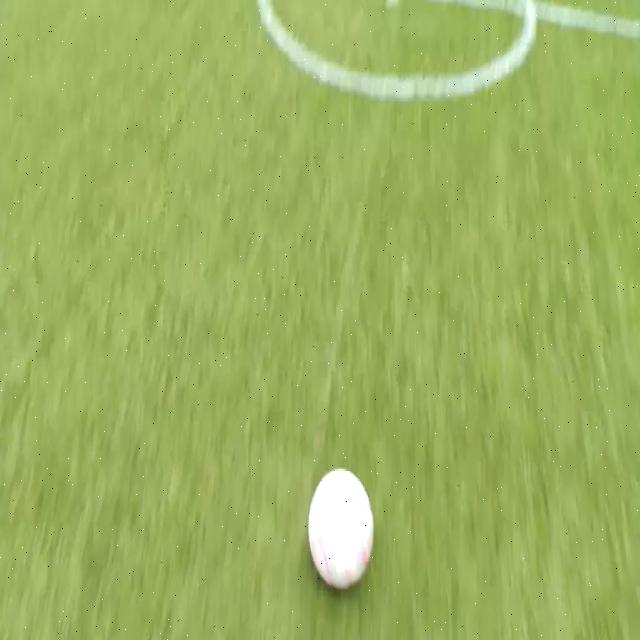ball: (308, 466, 372, 586)
